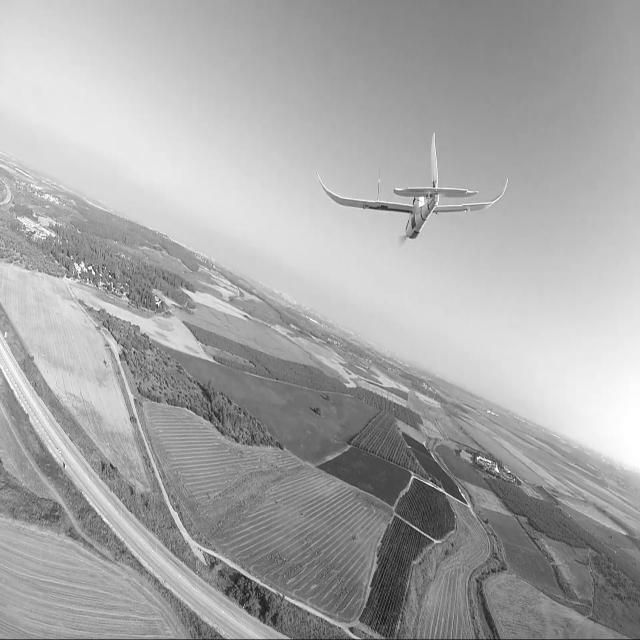iha: (315, 125, 509, 256)
